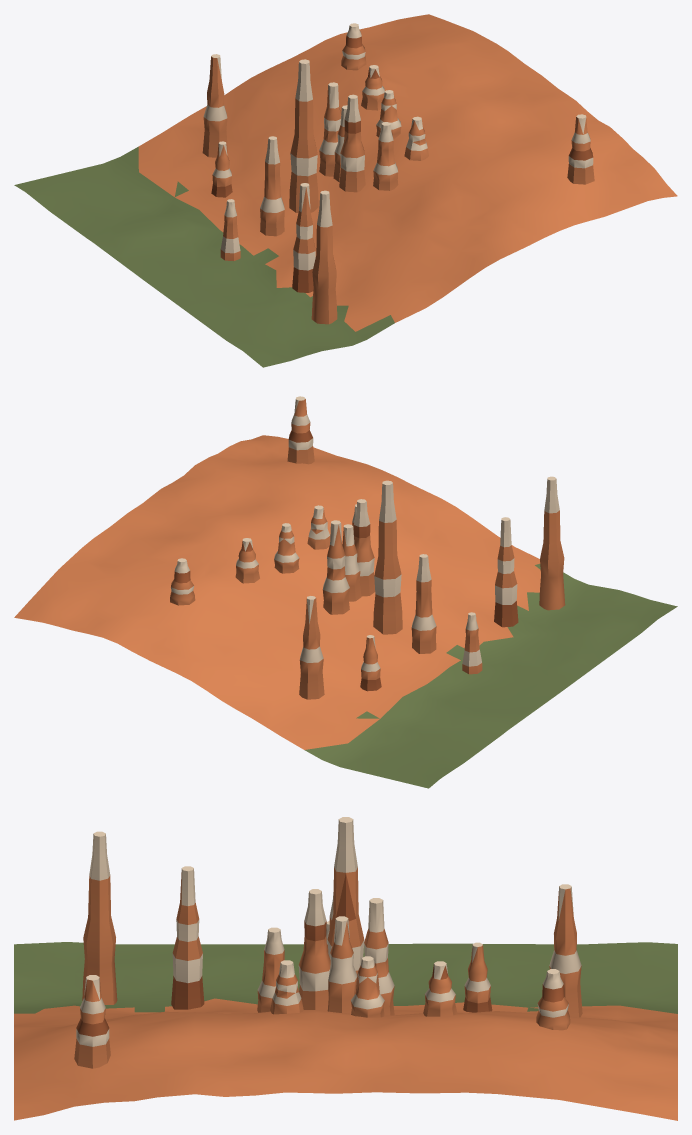
The model's file is landmark-hoodoos-low.glb.
3 renders of one model, top to bottom at view 1: azimuth 30°, elevation 25°; view 2: azimuth 150°, elevation 25°; view 3: azimuth 270°, elevation 25°, orthographic. The views are drawn at different scales.
Visible parts, largest first — view 1: hoodoos.001; view 2: hoodoos.001; view 3: hoodoos.001.
Boxes of the visible parts, x1=… form: hoodoos.001: x1=14, y1=14, x2=677, y2=367; hoodoos.001: x1=14, y1=396, x2=677, y2=788; hoodoos.001: x1=14, y1=817, x2=677, y2=1120.
Size of the model in its own units: 2.49 by 1 by 2.59.
